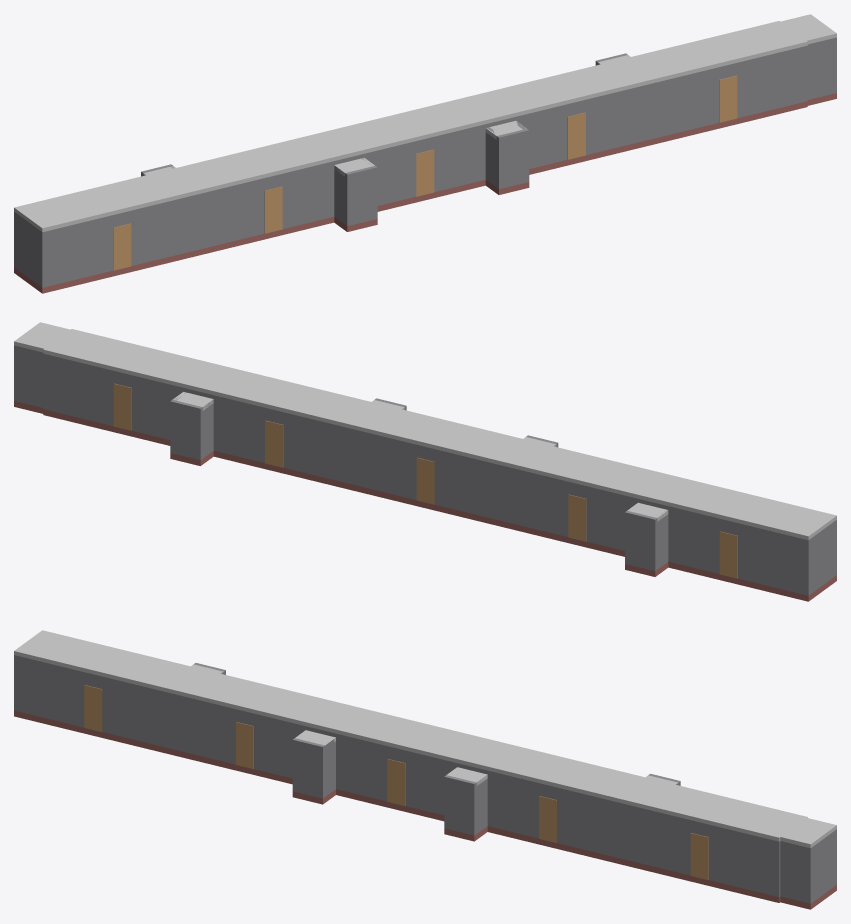
Rendered from floor_1_upper.glb.
The picture shows the model from 3 angles, top to bottom: view 1: azimuth 30°, elevation 25°; view 2: azimuth 150°, elevation 25°; view 3: azimuth 330°, elevation 25°; orthographic projection.
Parts seen in each view (by area): view 1: Corridor_Ceiling, Corridor_Wall_S_13, Corridor_Wall_S_3, Corridor_Floor, Corridor_Wall_S_1, Corridor_Wall_S_15, Corridor_Wall_S_5, Corridor_Wall_S_9, Corridor_Wall_S_7, Corridor_Wall_S_11, Alcove_Back_4, Alcove_Back_2 (+10 smaller); view 2: Corridor_Ceiling, Corridor_Wall_N_7, Corridor_Wall_N_9, Corridor_Floor, Corridor_Wall_N_1, Corridor_Wall_N_15, Corridor_Wall_N_3, Corridor_Wall_N_11, Corridor_Wall_N_13, Corridor_Wall_N_5, Alcove_Back, Alcove_Back_3 (+10 smaller); view 3: Corridor_Ceiling, Corridor_Wall_S_3, Corridor_Wall_S_13, Corridor_Floor, Corridor_Wall_S_15, Corridor_Wall_S_1, Corridor_Wall_S_11, Corridor_Wall_S_7, Corridor_Wall_S_9, Corridor_Wall_S_5, StairLanding_Wall_S_1, Alcove_Back_4 (+10 smaller).
Part boxes in pixels (bbox=[...]): Corridor_Ceiling: bbox=[14, 21, 807, 232]; Corridor_Wall_S_13: bbox=[585, 67, 719, 154]; Corridor_Wall_S_3: bbox=[131, 178, 264, 265]; Corridor_Floor: bbox=[14, 101, 807, 293]; Corridor_Wall_S_1: bbox=[40, 215, 112, 287]; Corridor_Wall_S_15: bbox=[737, 45, 807, 117]; Corridor_Wall_S_5: bbox=[282, 160, 337, 228]; Corridor_Wall_S_9: bbox=[434, 122, 493, 191]; Corridor_Wall_S_7: bbox=[360, 141, 416, 205]; Corridor_Wall_S_11: bbox=[508, 104, 567, 168]; Alcove_Back_4: bbox=[496, 129, 529, 188]; Alcove_Back_2: bbox=[345, 165, 377, 225]; Corridor_Ceiling: bbox=[43, 329, 836, 540]; Corridor_Wall_N_7: bbox=[434, 449, 568, 536]; Corridor_Wall_N_9: bbox=[283, 412, 416, 499]; Corridor_Floor: bbox=[43, 409, 836, 601]; Corridor_Wall_N_1: bbox=[738, 523, 810, 595]; Corridor_Wall_N_15: bbox=[43, 353, 113, 425]; Corridor_Wall_N_3: bbox=[660, 504, 719, 573]; Corridor_Wall_N_11: bbox=[210, 394, 265, 462]; Corridor_Wall_N_13: bbox=[131, 375, 187, 439]; Corridor_Wall_N_5: bbox=[586, 486, 645, 550]; Alcove_Back: bbox=[625, 510, 657, 570]; Alcove_Back_3: bbox=[170, 400, 202, 460]; Corridor_Ceiling: bbox=[14, 630, 807, 841]; Corridor_Wall_S_3: bbox=[102, 676, 236, 764]; Corridor_Wall_S_13: bbox=[557, 787, 690, 875]; Corridor_Floor: bbox=[14, 710, 780, 902]; Corridor_Wall_S_15: bbox=[708, 824, 780, 896]; Corridor_Wall_S_1: bbox=[14, 655, 84, 727]; Corridor_Wall_S_11: bbox=[480, 768, 539, 838]; Corridor_Wall_S_7: bbox=[332, 732, 387, 801]; Corridor_Wall_S_9: bbox=[405, 750, 464, 815]; Corridor_Wall_S_5: bbox=[254, 713, 309, 778]; StairLanding_Wall_S_1: bbox=[780, 841, 812, 903]; Alcove_Back_4: bbox=[444, 775, 476, 835].
Bounding box in the file's own units: 42 × 3.3 × 5.
